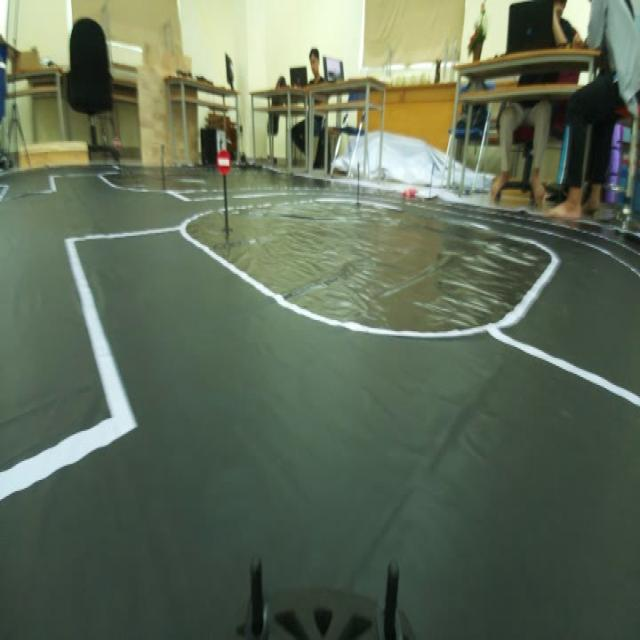no_entry: (214, 148, 235, 177)
